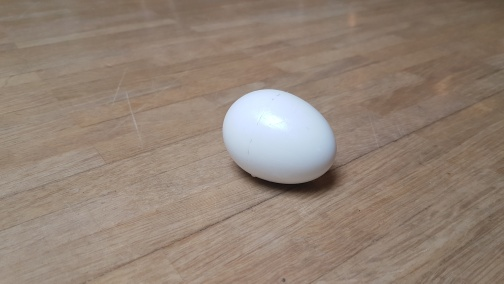egg: (221, 86, 337, 186)
